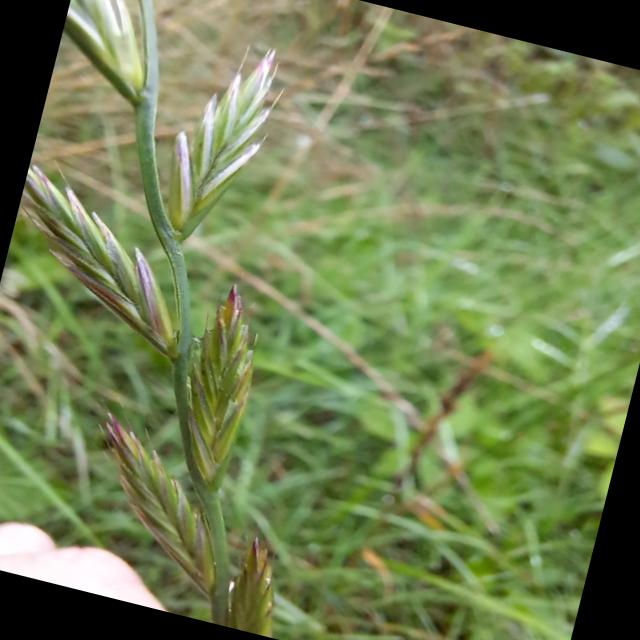Lolium: (0, 0, 426, 635)
